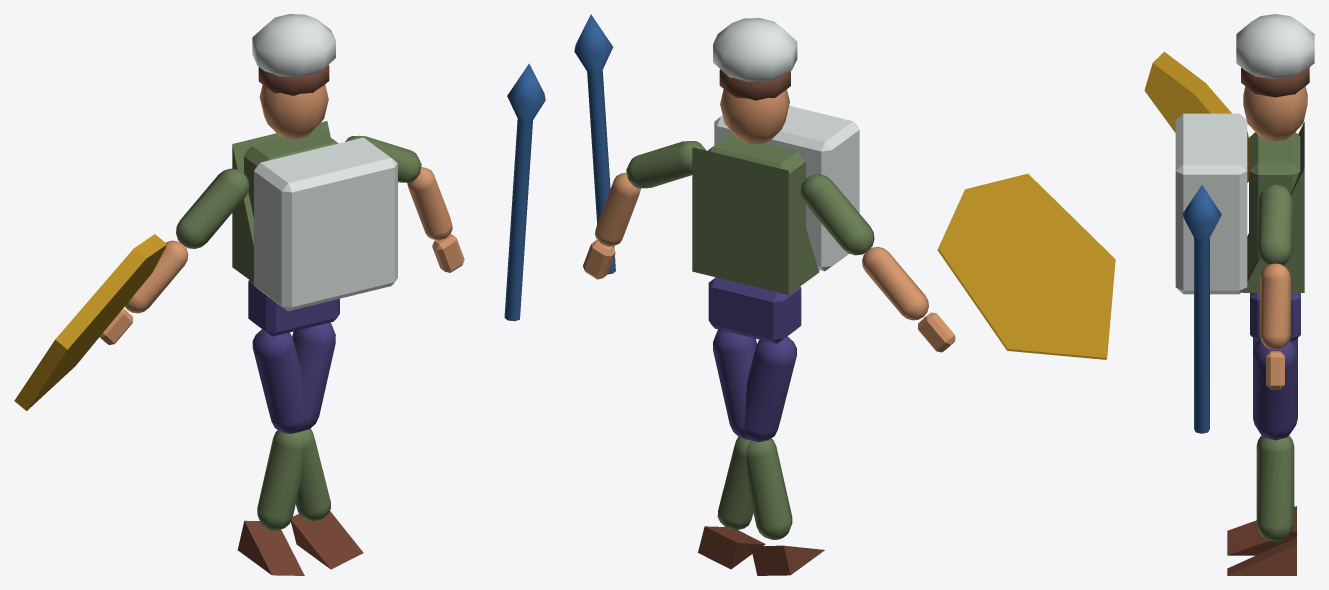
The model's file is adventurer.rustic.glb.
3 renders of one model, left to right at view 1: azimuth 30°, elevation 25°; view 2: azimuth 150°, elevation 25°; view 3: azimuth 270°, elevation 25°, orthographic.
Parts seen in each view (by area): view 1: accessory.body, accessory.off-hand, accessory.main-hand, accessory.head, thigh.left, shin.right, upper-arm.left, thigh.right, head, pelvis, foot.left, tunic (+8 smaller); view 2: accessory.off-hand, tunic, accessory.body, pelvis, accessory.head, thigh.left, accessory.main-hand, shin.right, upper-arm.left, thigh.right, head, forearm.left (+9 smaller); view 3: accessory.body, accessory.main-hand, accessory.head, shin.left, accessory.off-hand, thigh.right, torso, upper-arm.right, head, forearm.right, tunic, foot.left (+4 smaller).
Boxes of the visible parts, <box> form: accessory.body: <box>254,137,397,311</box>; accessory.off-hand: <box>14,234,167,410</box>; accessory.main-hand: <box>504,63,545,321</box>; accessory.head: <box>252,14,335,77</box>; thigh.left: <box>252,329,304,433</box>; shin.right: <box>257,430,302,530</box>; upper-arm.left: <box>176,168,249,248</box>; thigh.right: <box>292,322,335,431</box>; head: <box>259,84,328,138</box>; pelvis: <box>248,280,339,336</box>; foot.left: <box>291,511,363,569</box>; tunic: <box>232,121,330,282</box>; accessory.off-hand: <box>937,173,1115,359</box>; tunic: <box>692,147,819,294</box>; accessory.body: <box>714,105,859,271</box>; pelvis: <box>708,277,801,343</box>; accessory.head: <box>713,18,797,81</box>; thigh.left: <box>744,336,796,442</box>; accessory.main-hand: <box>574,14,615,274</box>; shin.right: <box>746,438,792,540</box>; upper-arm.left: <box>800,174,874,255</box>; thigh.right: <box>713,329,756,439</box>; head: <box>720,89,789,143</box>; forearm.left: <box>862,247,928,320</box>; accessory.body: <box>1175,113,1247,294</box>; accessory.main-hand: <box>1182,185,1221,433</box>; accessory.head: <box>1236,14,1314,79</box>; shin.left: <box>1256,436,1294,541</box>; accessory.off-hand: <box>1144,51,1248,182</box>; thigh.right: <box>1253,341,1297,440</box>; torso: <box>1249,132,1300,270</box>; upper-arm.right: <box>1257,184,1293,265</box>; head: <box>1243,86,1307,141</box>; forearm.right: <box>1260,263,1290,349</box>; tunic: <box>1242,122,1304,292</box>; foot.left: <box>1227,537,1296,575</box>.
Bounding box in the file's own units: 3.28 × 3.18 × 0.9041.
